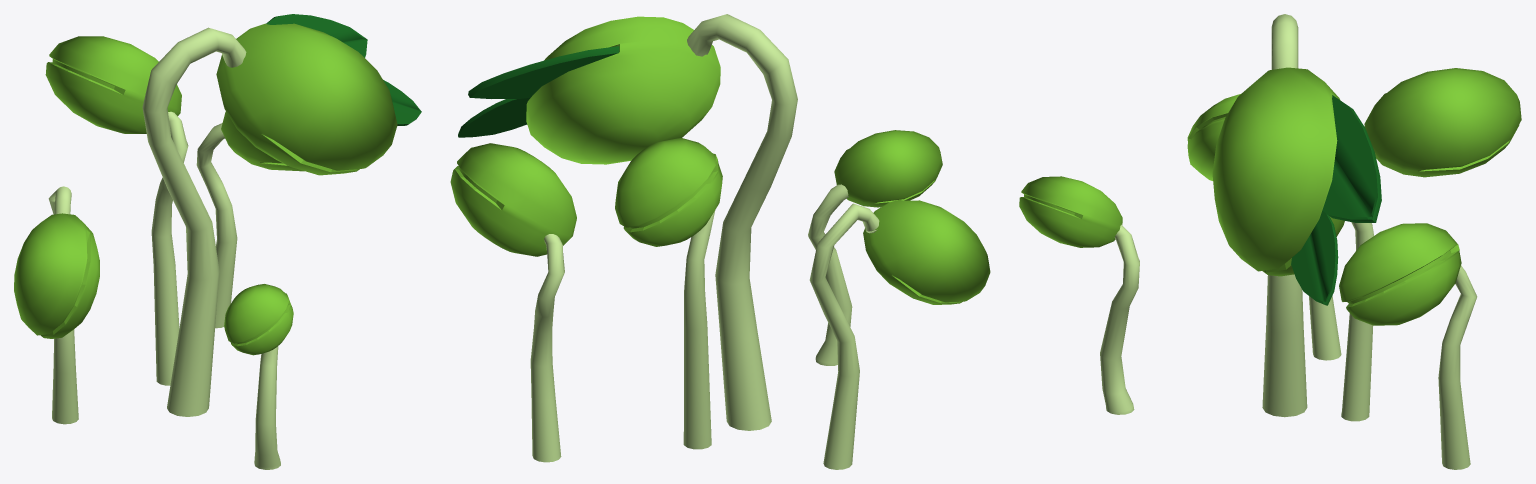
Rendered from Crop_Taugey.FBX.
3 renders of one model, left to right at view 1: azimuth 30°, elevation 25°; view 2: azimuth 150°, elevation 25°; view 3: azimuth 270°, elevation 25°, orthographic. The views are drawn at different scales.
Parts seen in each view (by area): view 1: Bean_010; view 2: Bean_010; view 3: Bean_010.
Part boxes in pixels (bbox=[...]): Bean_010: bbox=[14, 14, 421, 469]; Bean_010: bbox=[450, 14, 990, 469]; Bean_010: bbox=[1019, 14, 1521, 469].
Bounding box in the file's own units: 154 × 124 × 142.
